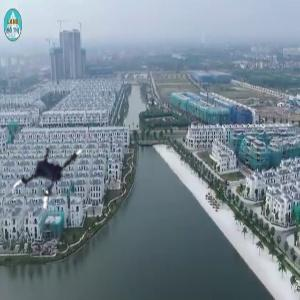drone: (8, 137, 95, 224)
